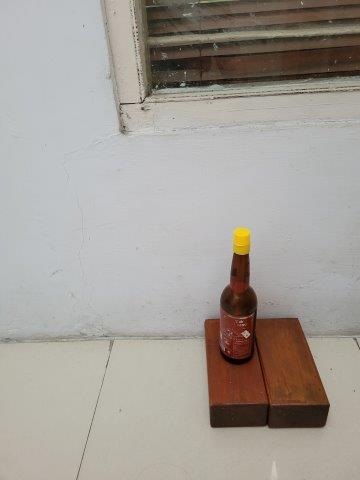botolkaca: (219, 229, 258, 364)
